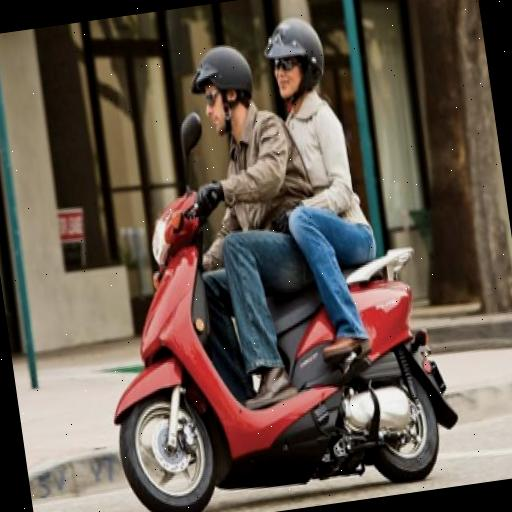helmet: (62, 24, 349, 512)
